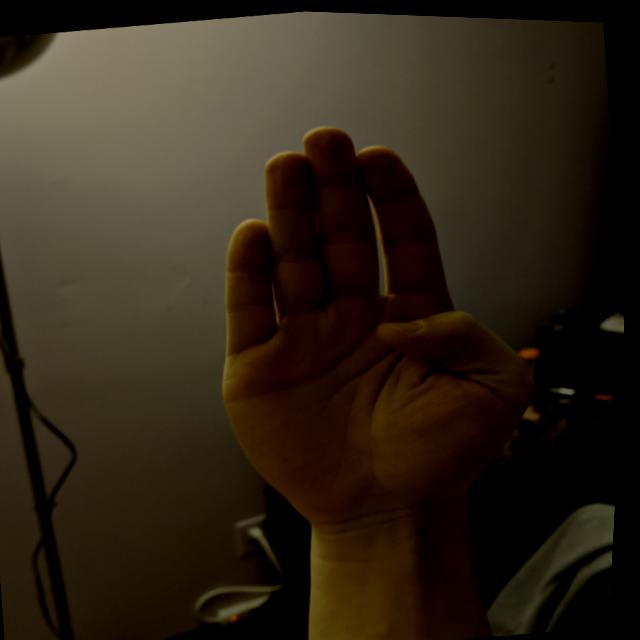B: (174, 90, 574, 557)
